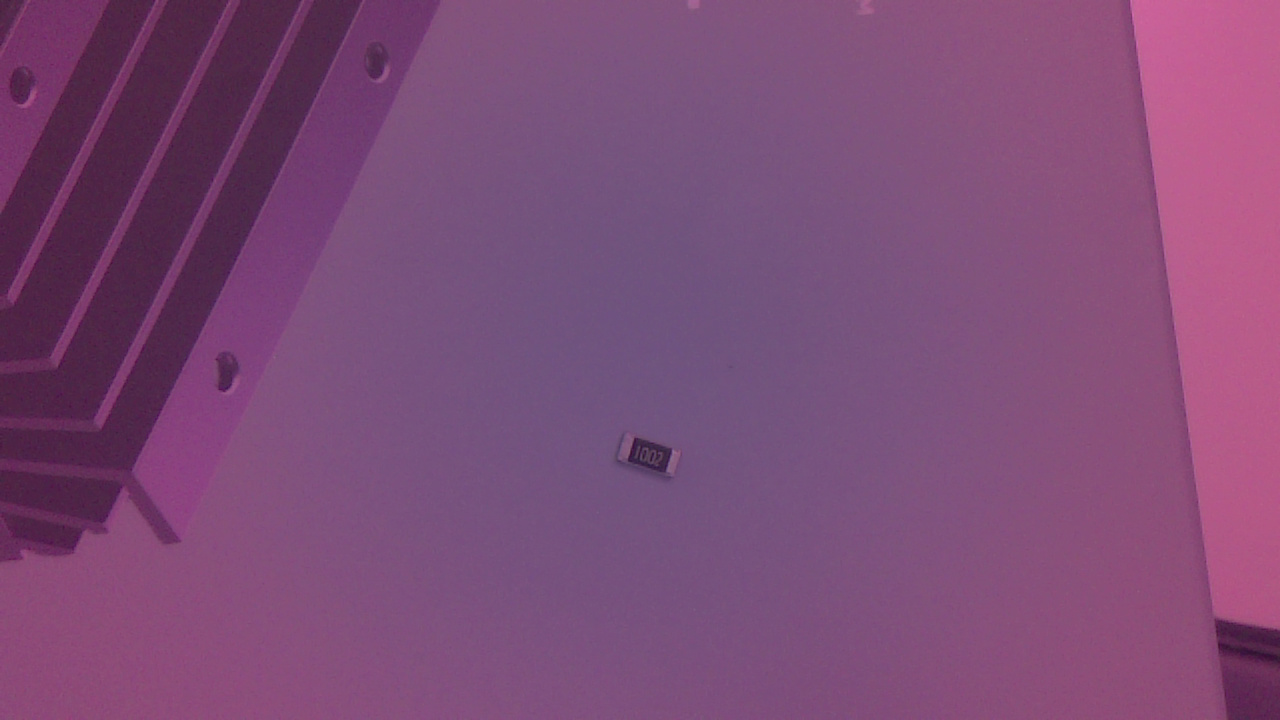Resistor: (616, 435, 689, 486)
